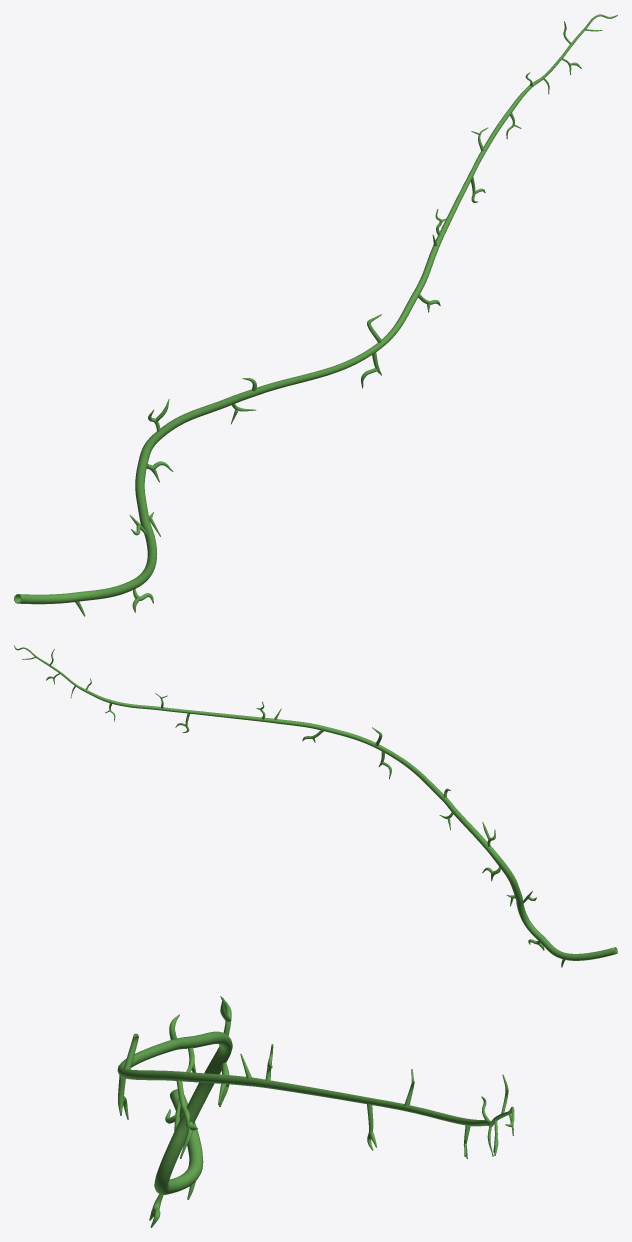
The model's file is visceras-pancreatic-duct.glb.
The picture shows the model from 3 angles, top to bottom: view 1: azimuth 30°, elevation 25°; view 2: azimuth 150°, elevation 25°; view 3: azimuth 270°, elevation 25°; orthographic projection. The views are drawn at different scales.
Visible parts, largest first — view 1: Pancreatic duct; view 2: Pancreatic duct; view 3: Pancreatic duct.
Part boxes in pixels (x1,y1,x2,y2): Pancreatic duct: (14,14,617,616); Pancreatic duct: (14,645,617,967); Pancreatic duct: (117,996,514,1227).
Size of the model in its own units: 0.1193 by 0.0594 by 0.0393.
